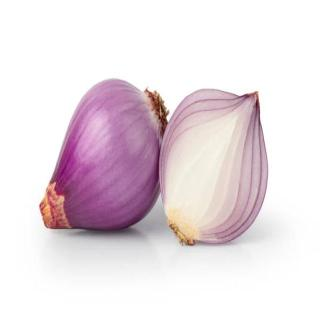Bawang Merah: (36, 74, 170, 233), (159, 87, 271, 247)
